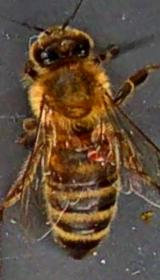varroa_mite: (76, 140, 108, 162)
